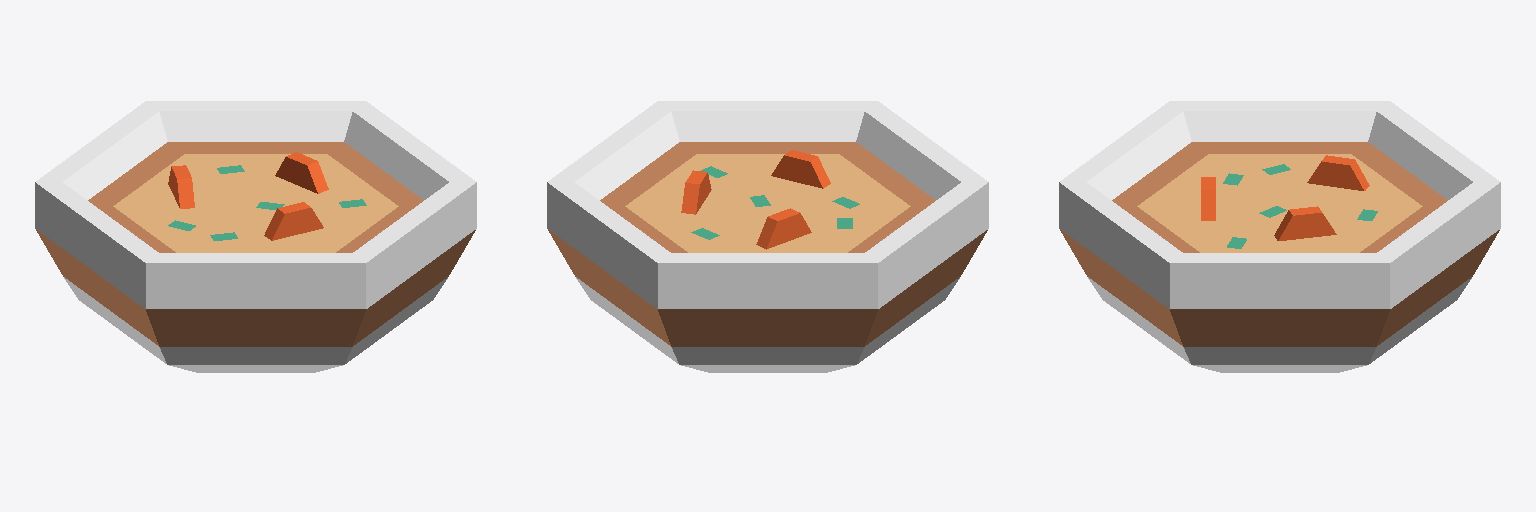
Rendered from bowlSoup.obj.
3 views of the same model, side by side, from view 1: azimuth 30°, elevation 25°; view 2: azimuth 150°, elevation 25°; view 3: azimuth 270°, elevation 25° (orthographic).
Parts seen in each view (by area): view 1: bowlSoup; view 2: bowlSoup; view 3: bowlSoup.
Boxes of the visible parts, x1,y1,x2,y2 form: bowlSoup: [35, 101, 476, 372]; bowlSoup: [547, 101, 988, 372]; bowlSoup: [1059, 101, 1500, 372].
Size of the model in its own units: 0.5022 by 0.2138 by 0.5798.